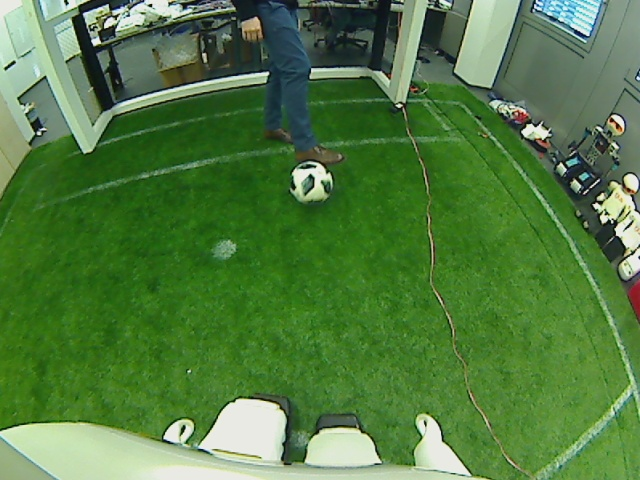ball: (288, 159, 336, 205)
